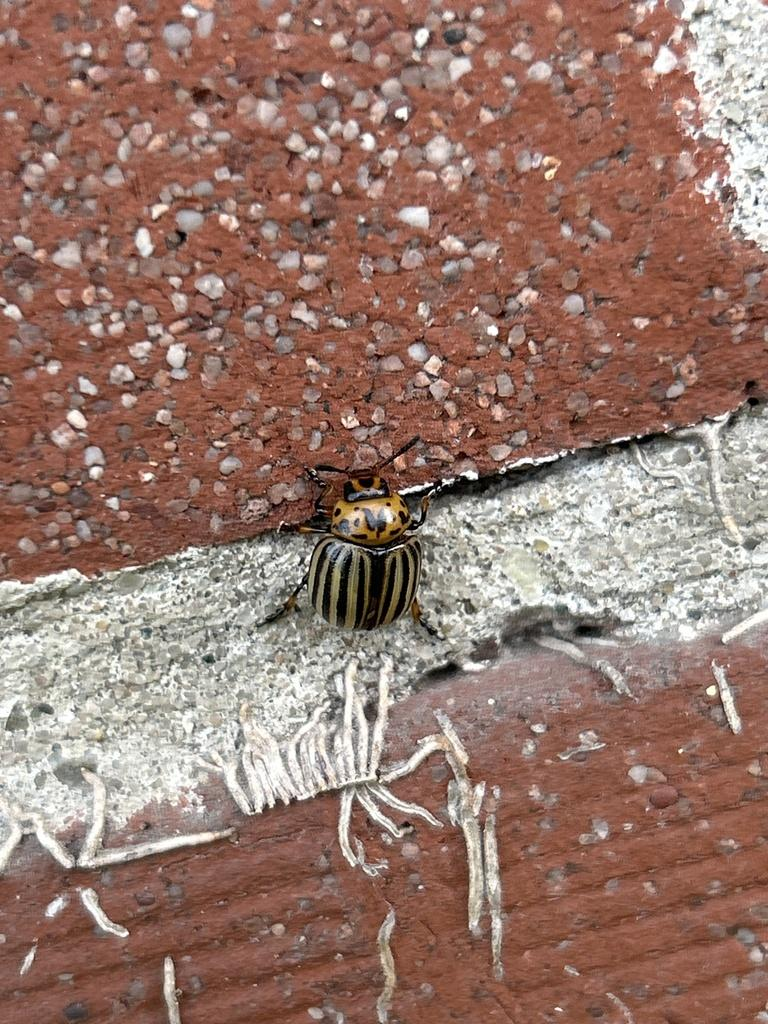potato_beetle: (235, 417, 474, 683)
